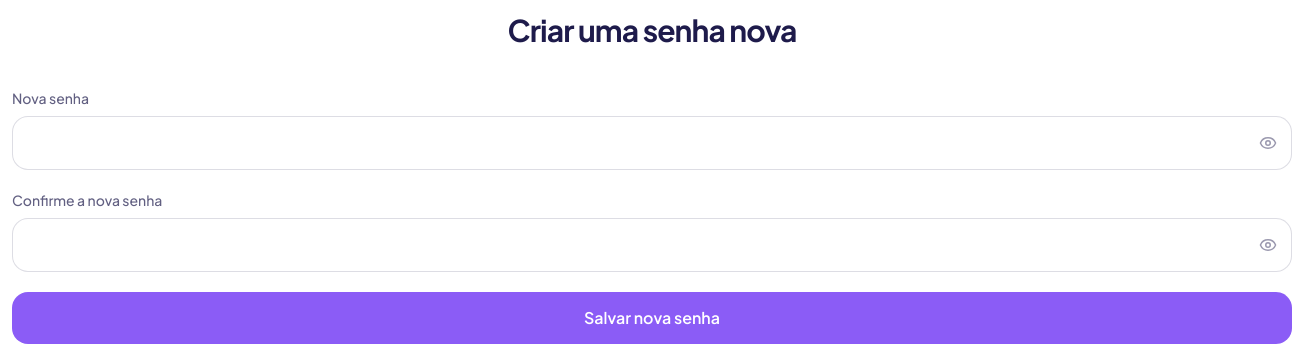
Test: tela de redefinir senha › confirma o sucesso e oferece o caminho para entrar
Type "senha-nova-longa" into the password field labelled "Nova senha" at (652, 143), box [12,116,1292,170]
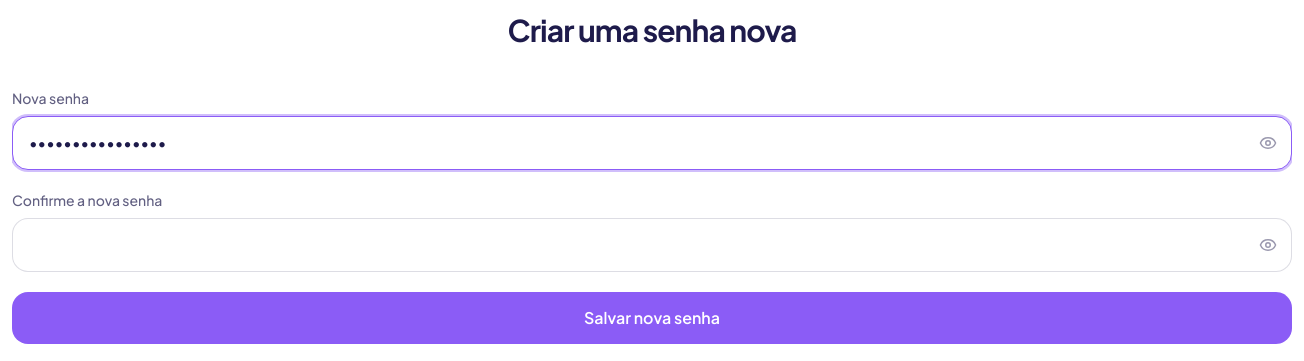
Type "senha-nova-longa" into the password field labelled "Confirme a nova senha" at (652, 245), box [12,218,1292,272]
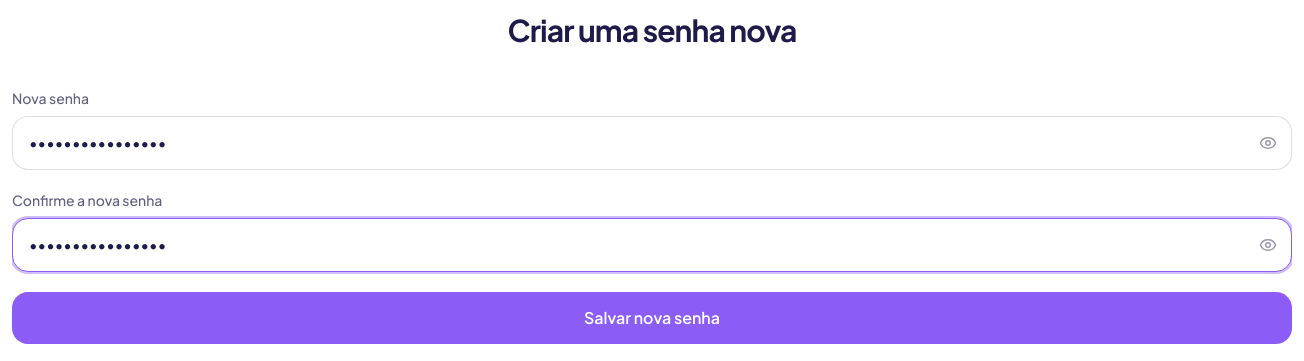
Click the button "Salvar nova senha" at (652, 318), box [12,292,1292,344]
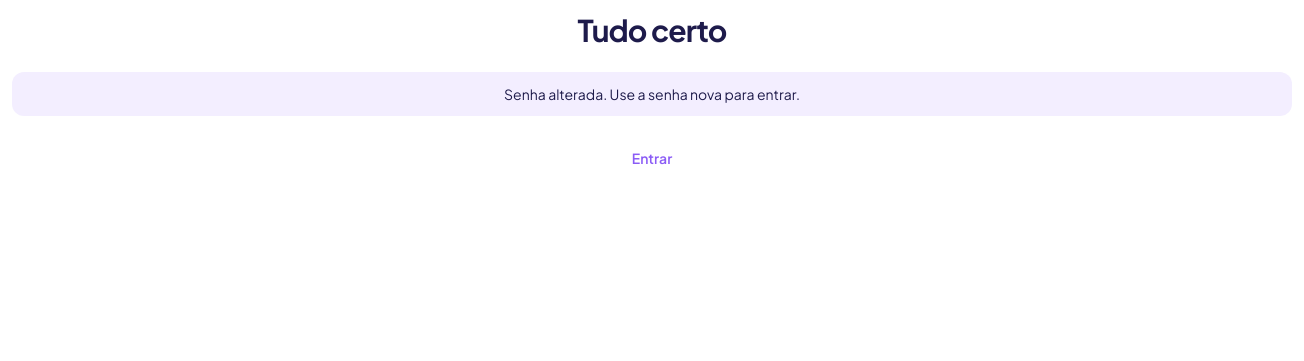
Expected: the message shows "Senha alterada", [504,85,800,103]
